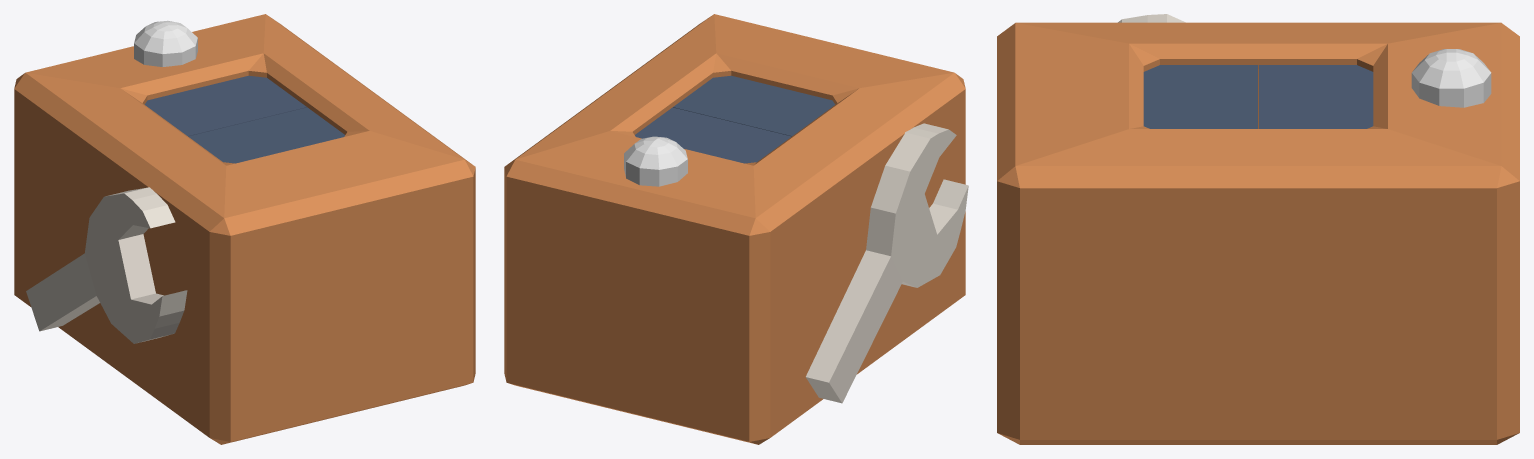
Rendered from Factory.Repairman.fbx.
3 views of the same model, side by side, from view 1: azimuth 30°, elevation 25°; view 2: azimuth 150°, elevation 25°; view 3: azimuth 270°, elevation 25° (orthographic). The views are drawn at different scales.
Parts seen in each view (by area): view 1: Factory.Repairman, Wrench.Repairman, DoorRight.Repairman, DoorLeft.Repairman, Light.Repairman; view 2: Factory.Repairman, Wrench.Repairman, DoorLeft.Repairman, DoorRight.Repairman, Light.Repairman; view 3: Factory.Repairman, DoorLeft.Repairman, DoorRight.Repairman, Light.Repairman.
Part boxes in pixels (x1,y1,x2,y2): Factory.Repairman: (14, 14, 475, 444); Wrench.Repairman: (26, 187, 187, 343); DoorRight.Repairman: (144, 75, 306, 136); DoorLeft.Repairman: (188, 107, 344, 163); Light.Repairman: (134, 20, 197, 67); Factory.Repairman: (504, 14, 965, 444); Wrench.Repairman: (806, 123, 968, 403); DoorLeft.Repairman: (673, 75, 835, 136); DoorRight.Repairman: (635, 107, 791, 163); Light.Repairman: (624, 136, 687, 186); Factory.Repairman: (997, 22, 1519, 444); DoorLeft.Repairman: (1143, 65, 1257, 128); DoorRight.Repairman: (1259, 65, 1373, 128); Light.Repairman: (1411, 49, 1491, 107).
Size of the model in its own units: 103 by 88.61 by 131.
